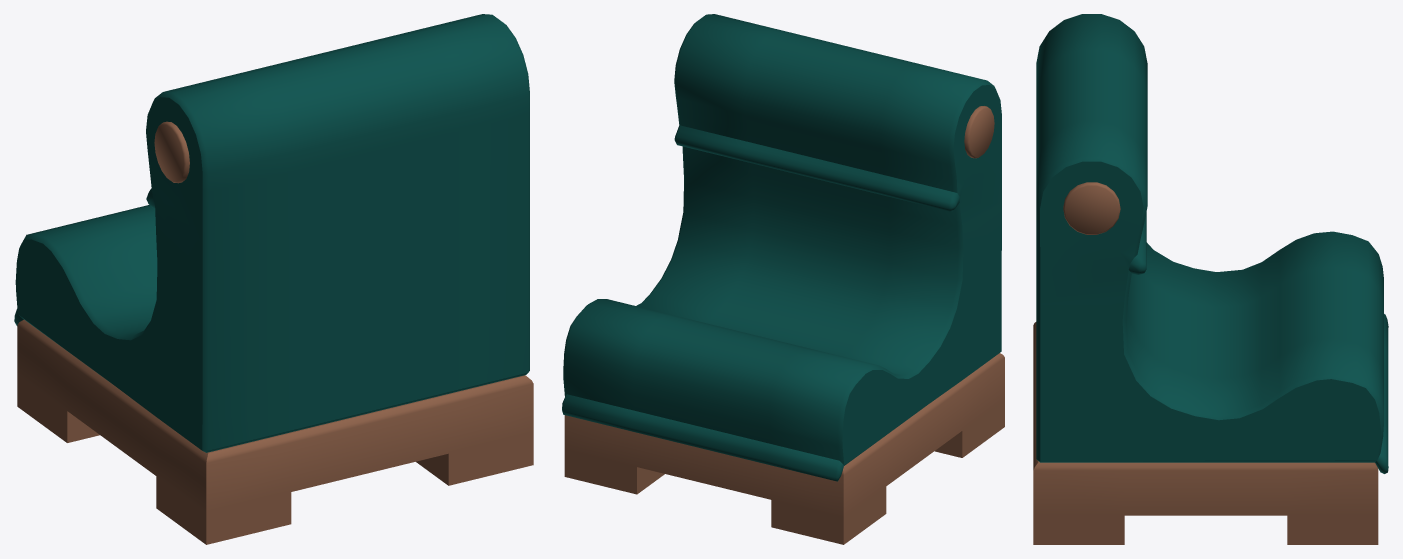
File: OT_031_032_033_034_035_bar_armchair.glb
The picture shows the model from 3 angles, left to right: view 1: azimuth 30°, elevation 25°; view 2: azimuth 150°, elevation 25°; view 3: azimuth 270°, elevation 25°; orthographic projection. The views are drawn at different scales.
Parts seen in each view (by area): view 1: seat, legs; view 2: seat, legs; view 3: seat, legs.
Part boxes in pixels (x1,y1,x2,y2): seat: (14, 14, 529, 452); legs: (17, 319, 533, 544); seat: (562, 14, 1001, 481); legs: (564, 353, 1004, 544); seat: (1036, 14, 1388, 473); legs: (1033, 322, 1378, 544).
Size of the model in its own units: 1.49 by 1.79 by 1.49.
